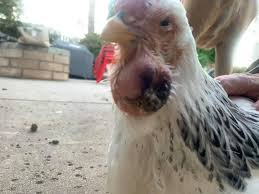Unhealthy: (89, 2, 217, 159)
